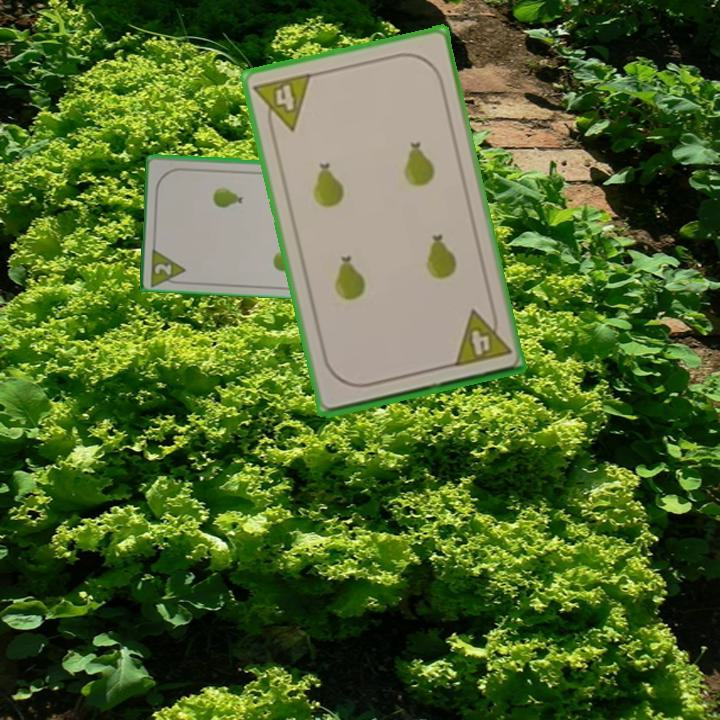2p: (147, 242, 189, 287)
4p: (250, 69, 314, 138), (449, 303, 514, 370)
